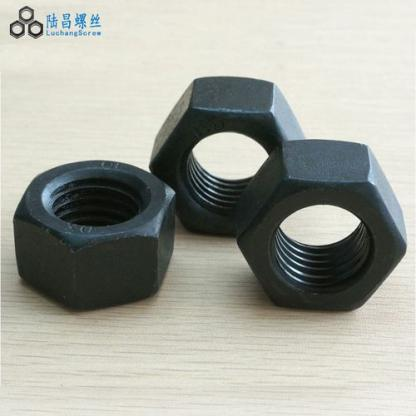FOD: (236, 140, 408, 315), (11, 158, 178, 314), (154, 73, 307, 240)
